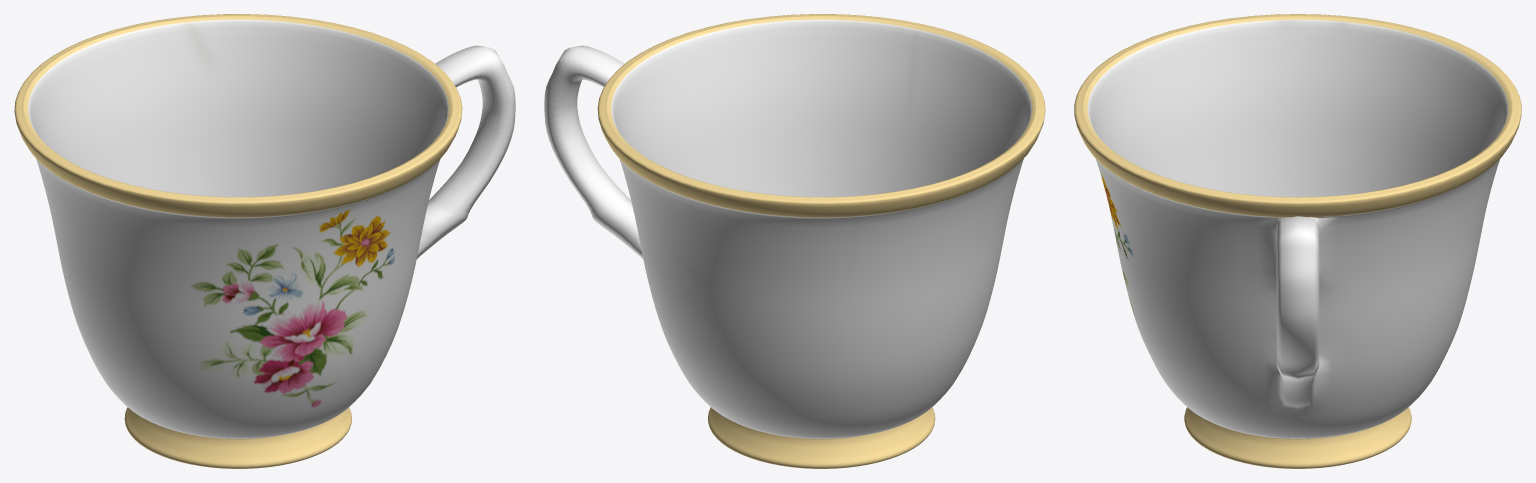
File: tea_cup.glb
The picture shows the model from 3 angles, left to right: view 1: azimuth 30°, elevation 25°; view 2: azimuth 150°, elevation 25°; view 3: azimuth 270°, elevation 25°; orthographic projection.
Visible parts, largest first — view 1: Poly_Cupver7_lambert1_0; view 2: Poly_Cupver7_lambert1_0; view 3: Poly_Cupver7_lambert1_0.
Boxes of the visible parts, x1=… form: Poly_Cupver7_lambert1_0: x1=14, y1=14, x2=515, y2=468; Poly_Cupver7_lambert1_0: x1=544, y1=14, x2=1045, y2=468; Poly_Cupver7_lambert1_0: x1=1074, y1=14, x2=1521, y2=468.
Size of the model in its own units: 3.76 by 2.44 by 3.13.
Materials: 1 (1 with a texture image).
